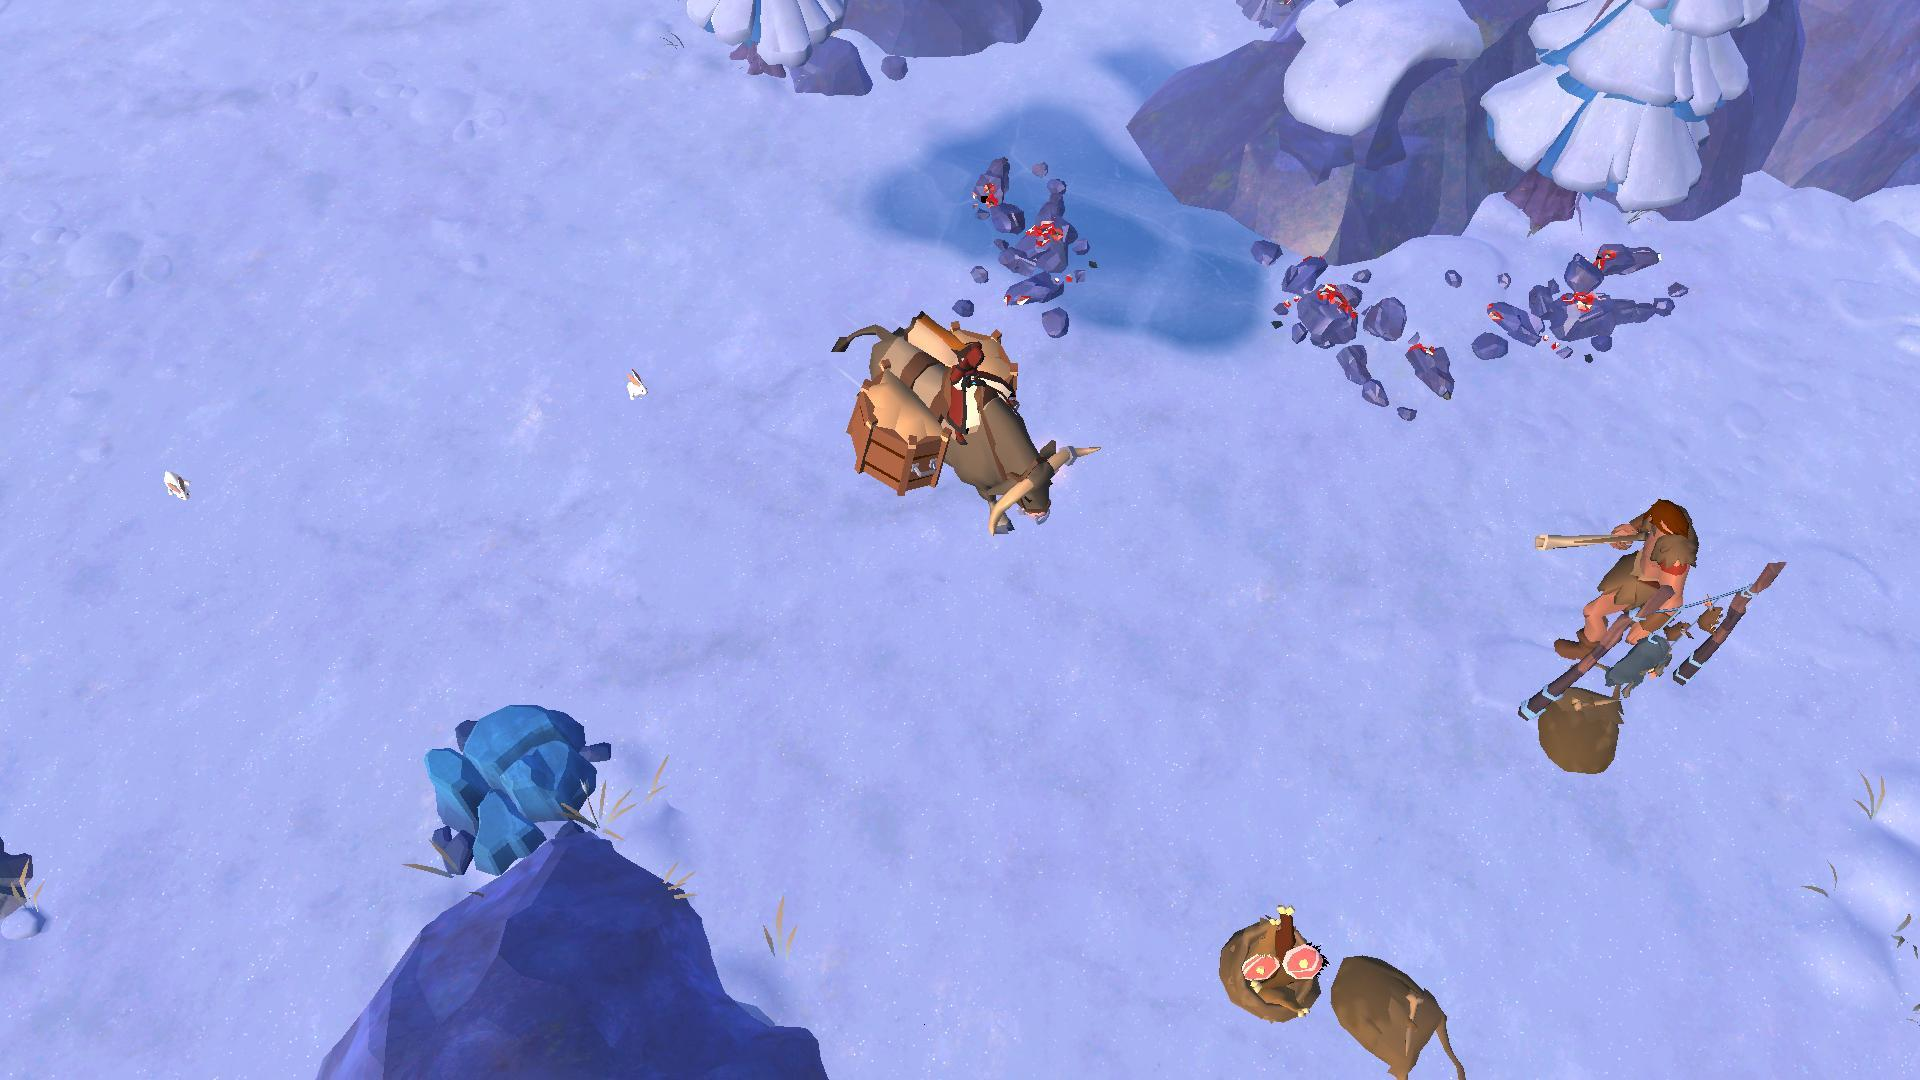enemy_factionKeeper: (1531, 501, 1696, 666)
rock_t4: (417, 699, 611, 878)
